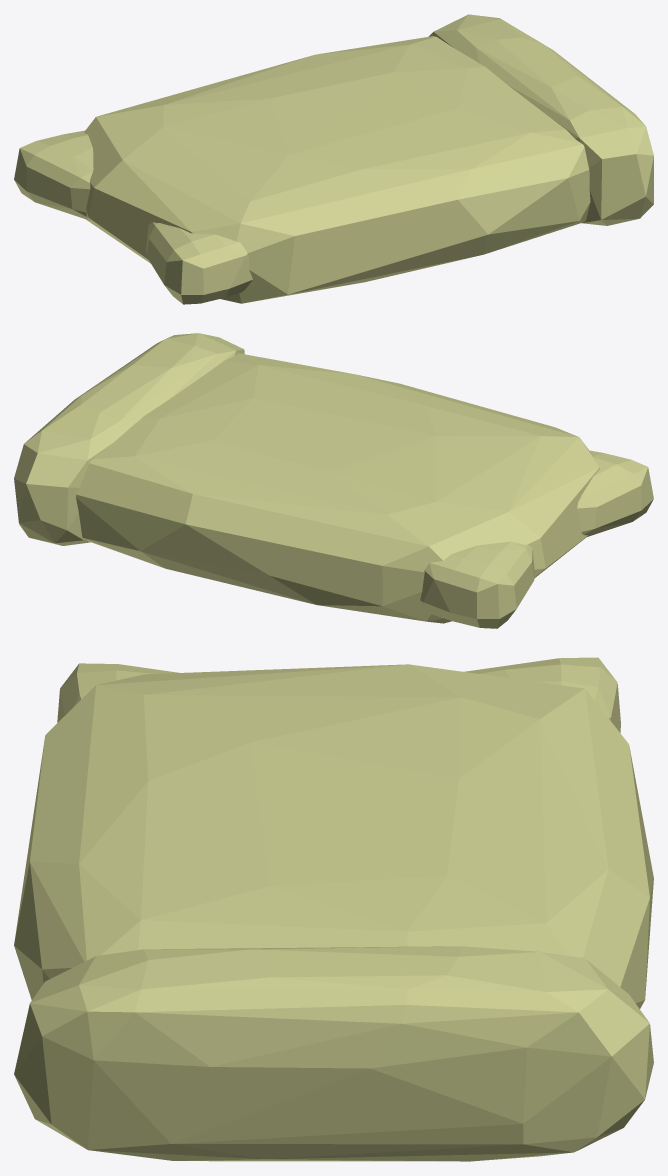
File: Sack.fbx
3 renders of one model, top to bottom at view 1: azimuth 30°, elevation 25°; view 2: azimuth 150°, elevation 25°; view 3: azimuth 270°, elevation 25°, orthographic. The views are drawn at different scales.
Visible parts, largest first — view 1: Sack; view 2: Sack; view 3: Sack.
Boxes of the visible parts, left/top/right/bottom form: Sack: left=14, top=14, right=653, bottom=304; Sack: left=14, top=333, right=653, bottom=628; Sack: left=14, top=657, right=653, bottom=1161.
Size of the model in its own units: 50.56 by 10.97 by 34.27.
